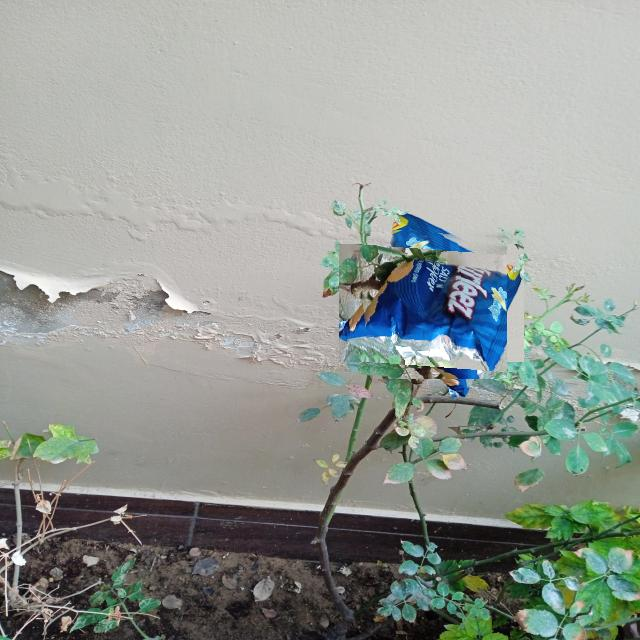Plastic: (355, 227, 507, 379)
